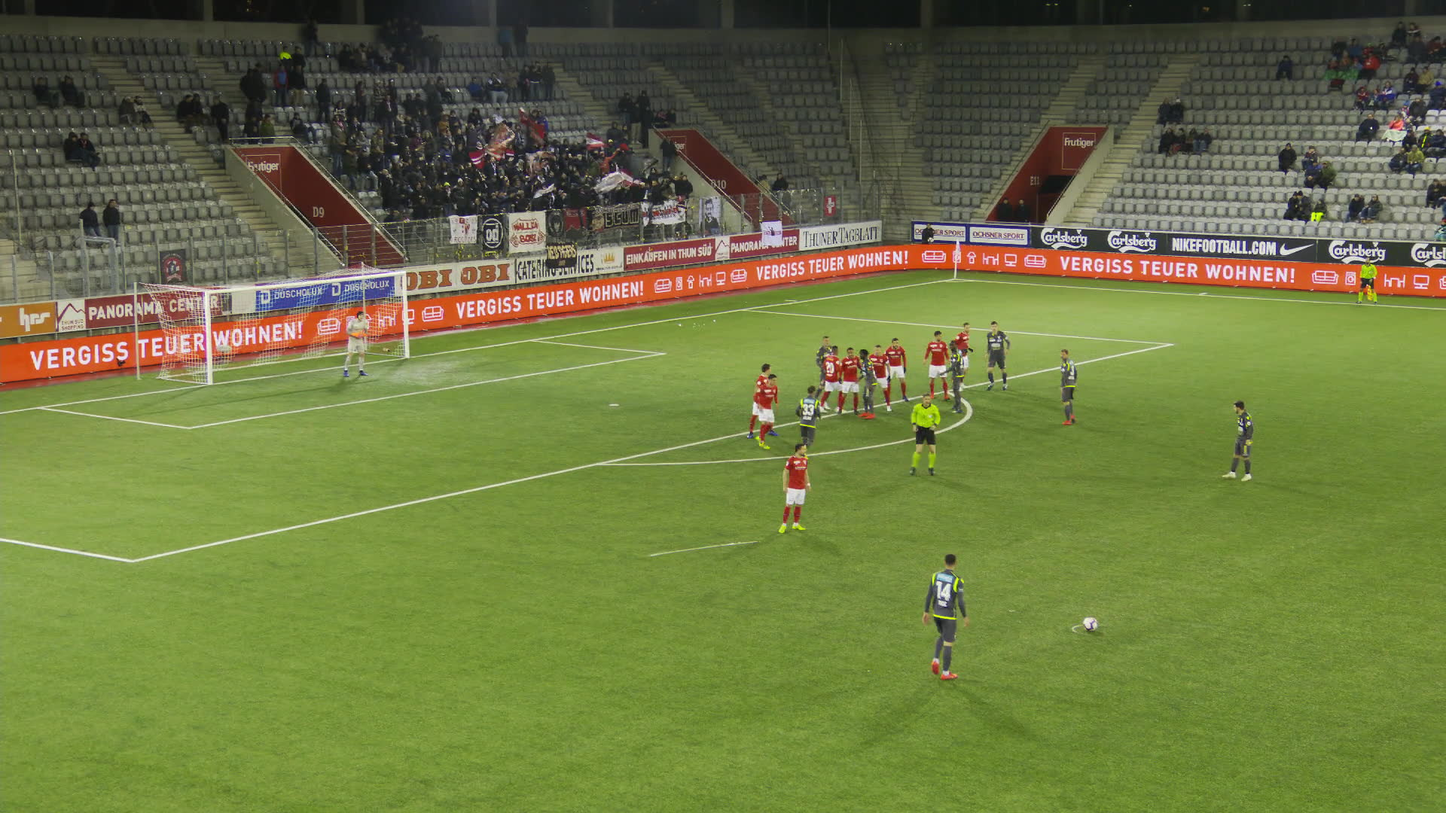ball: (1081, 615, 1097, 632)
player: (920, 550, 970, 682), (776, 443, 810, 534), (1220, 398, 1255, 482), (746, 362, 779, 439), (750, 372, 782, 449), (982, 319, 1013, 394), (791, 382, 823, 452), (921, 329, 951, 403), (938, 340, 966, 415), (835, 346, 863, 416), (342, 310, 371, 377), (865, 343, 892, 412), (882, 336, 909, 404), (855, 348, 880, 419), (1057, 348, 1079, 427), (817, 344, 841, 413), (951, 321, 974, 392), (811, 336, 832, 413)
referee: (908, 391, 946, 478), (1355, 256, 1379, 305)
